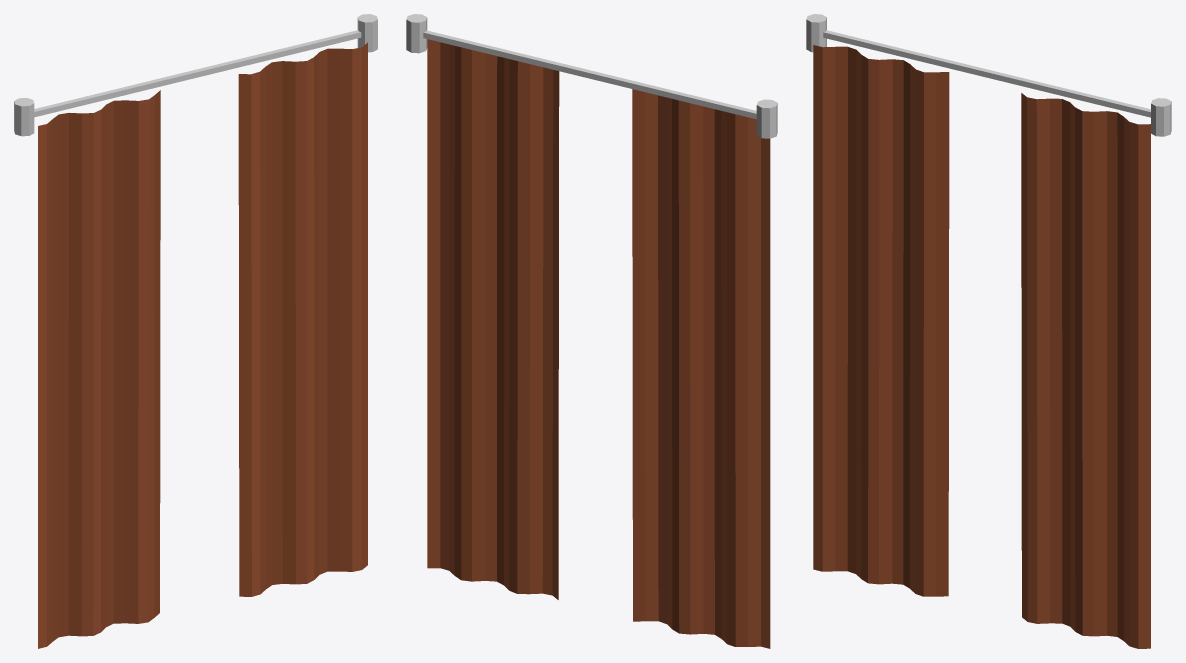
Rendered from curtains.glb.
The picture shows the model from 3 angles, left to right: view 1: azimuth 30°, elevation 25°; view 2: azimuth 150°, elevation 25°; view 3: azimuth 330°, elevation 25°; orthographic projection.
Visible parts, largest first — view 1: curtains; view 2: curtains; view 3: curtains.
Boxes of the visible parts, x1=… form: curtains: x1=14, y1=14, x2=377, y2=648; curtains: x1=406, y1=14, x2=777, y2=648; curtains: x1=806, y1=14, x2=1171, y2=648.
Bounding box in the file's own units: 1.6 × 2.29 × 0.1093.
